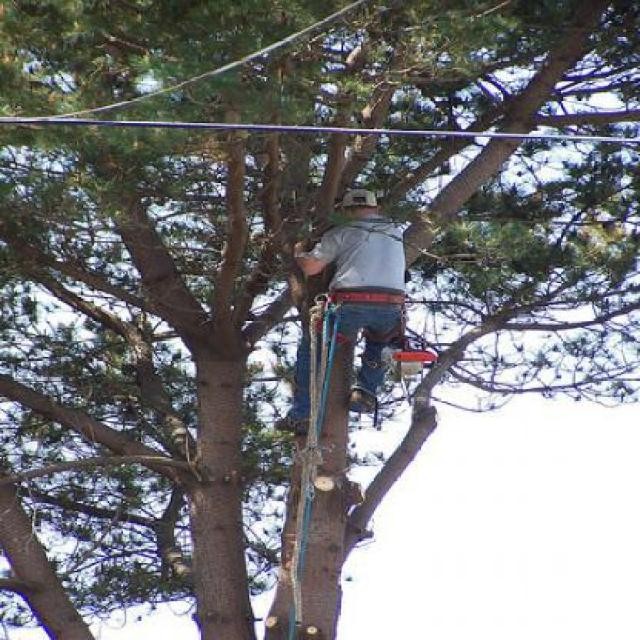Chainsaw: (385, 339, 441, 393)
